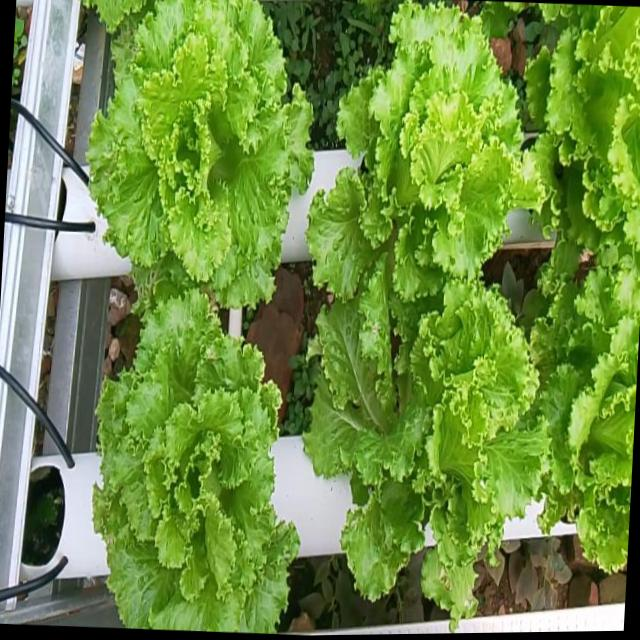Mature: (295, 280, 558, 633), (76, 266, 292, 630), (299, 13, 557, 315), (71, 0, 307, 311)
